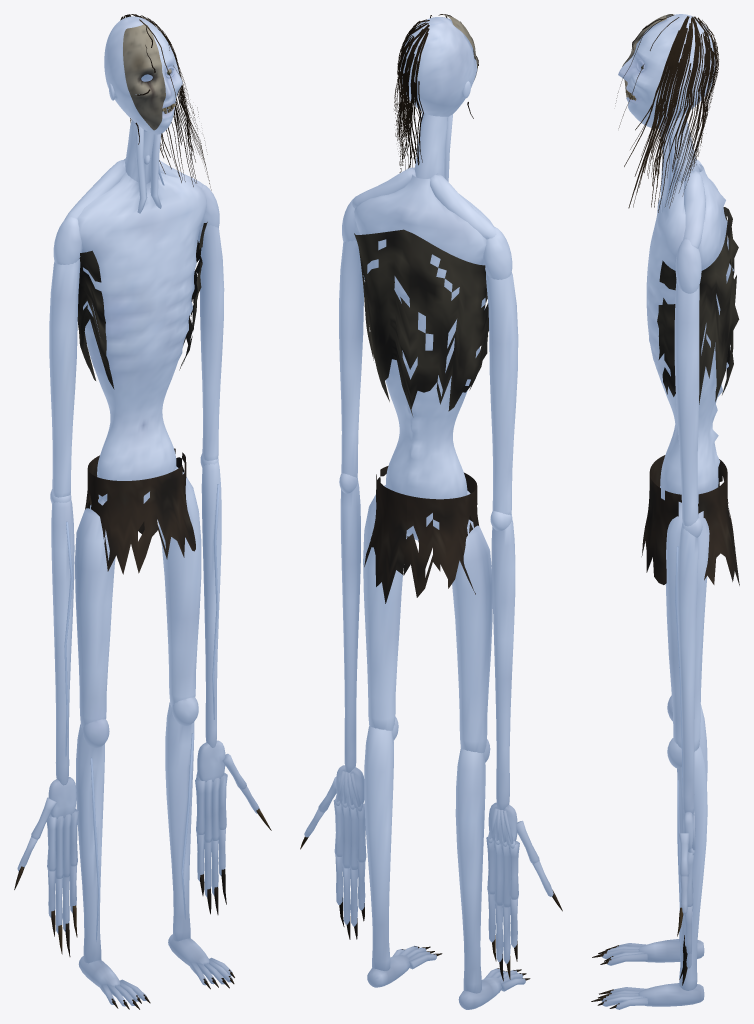
File: bledy_1.glb
The picture shows the model from 3 angles, left to right: view 1: azimuth 30°, elevation 25°; view 2: azimuth 150°, elevation 25°; view 3: azimuth 270°, elevation 25°; orthographic projection. The views are drawn at different scales.
Visible parts, largest first — view 1: koza.033, latka.001, koza.002, koza.001, koza.028, koza.031, koza.032, koza.029, koza.026, koza.027, koza.034, maska (+5 smaller); view 2: koza.033, latka, latka.001, koza.031, koza.002, koza.028, koza.001, koza.026, koza.032, koza.029, koza.034, koza.027 (+4 smaller); view 3: koza.033, vlasy, latka, koza.029, koza.002, koza.034, koza.027, latka.001, koza.032, koza.001, koza.025, koza.021 (+1 smaller).
Boxes of the visible parts, bbox=[...] form: koza.033: bbox=[64, 158, 206, 503]; latka.001: bbox=[85, 448, 195, 574]; koza.002: bbox=[165, 697, 232, 985]; koza.001: bbox=[76, 719, 146, 1006]; koza.028: bbox=[49, 217, 82, 497]; koza.031: bbox=[74, 498, 115, 728]; koza.032: bbox=[157, 466, 201, 707]; koza.029: bbox=[197, 184, 224, 460]; koza.026: bbox=[50, 489, 74, 785]; koza.027: bbox=[200, 453, 221, 747]; koza.034: bbox=[104, 16, 182, 134]; maska: bbox=[123, 24, 165, 130]; koza.033: bbox=[352, 167, 496, 531]; latka: bbox=[354, 229, 488, 415]; latka.001: bbox=[364, 466, 478, 603]; koza.031: bbox=[452, 519, 492, 753]; koza.002: bbox=[364, 716, 436, 987]; koza.028: bbox=[482, 226, 518, 515]; koza.001: bbox=[455, 739, 525, 1009]; koza.026: bbox=[490, 511, 515, 809]; koza.032: bbox=[363, 485, 407, 730]; koza.029: bbox=[339, 196, 364, 477]; koza.034: bbox=[400, 17, 478, 116]; koza.027: bbox=[339, 473, 360, 772]; koza.033: bbox=[646, 159, 733, 501]; vlasy: bbox=[615, 15, 719, 212]; latka: bbox=[657, 207, 739, 404]; koza.029: bbox=[674, 239, 701, 526]; koza.002: bbox=[602, 738, 707, 1009]; koza.034: bbox=[618, 14, 715, 128]; koza.027: bbox=[675, 517, 702, 814]; latka.001: bbox=[641, 455, 739, 585]; koza.032: bbox=[665, 502, 709, 751]; koza.001: bbox=[602, 695, 707, 965]; koza.025: bbox=[660, 114, 699, 212]; koza.021: bbox=[679, 833, 689, 876].
Size of the model in its own units: 0.8628 by 3.06 by 0.4276.
